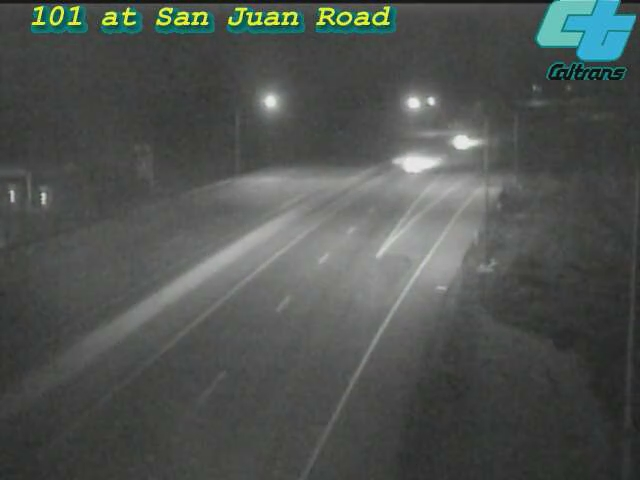vehicle: (377, 123, 457, 203), (436, 116, 486, 166)
